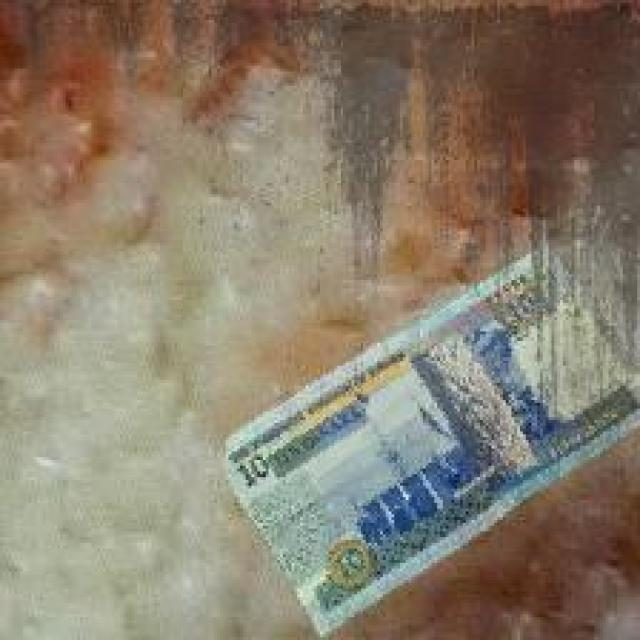10-dinar: (217, 246, 640, 634)
